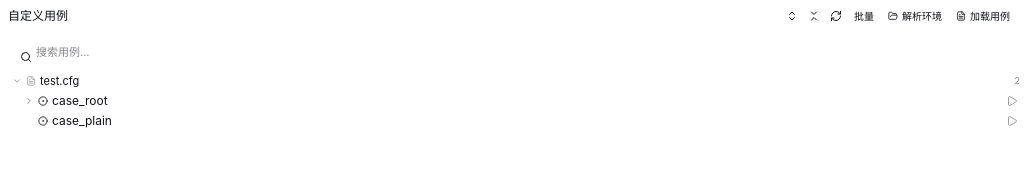
Test case: CaseCfgPanel › 批量模式 › 批量模式退出时清空已选
Expected: the text "case_root" is shown, [52, 93, 108, 109]
Click the button "批量": (864, 16) [848, 6, 880, 26]
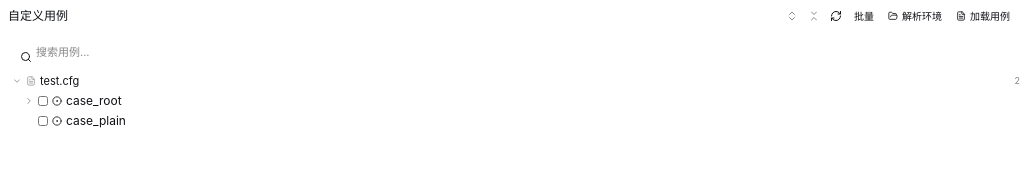
Click the text "case_root": (94, 101) [66, 93, 122, 109]
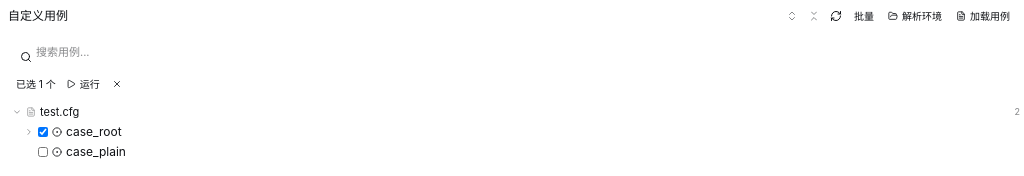
Result: the text "已选 1 个" is shown at [16, 76, 56, 92]
# 再次点击批量 → 退出并清空
Click the button "批量": (864, 16) [848, 6, 880, 26]
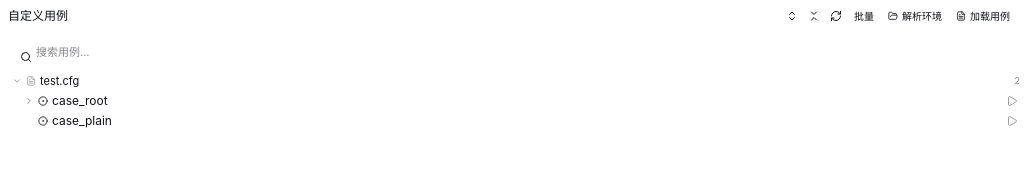
Result: the text "已选 1 个" is gone
